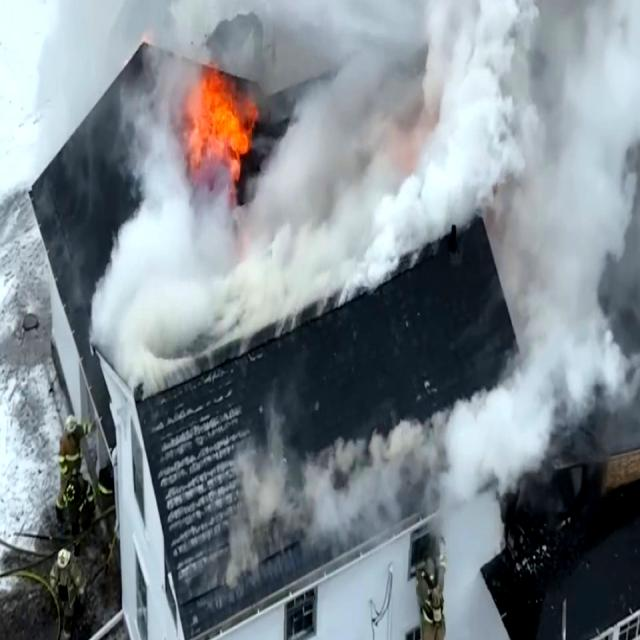fire: (167, 27, 266, 188)
